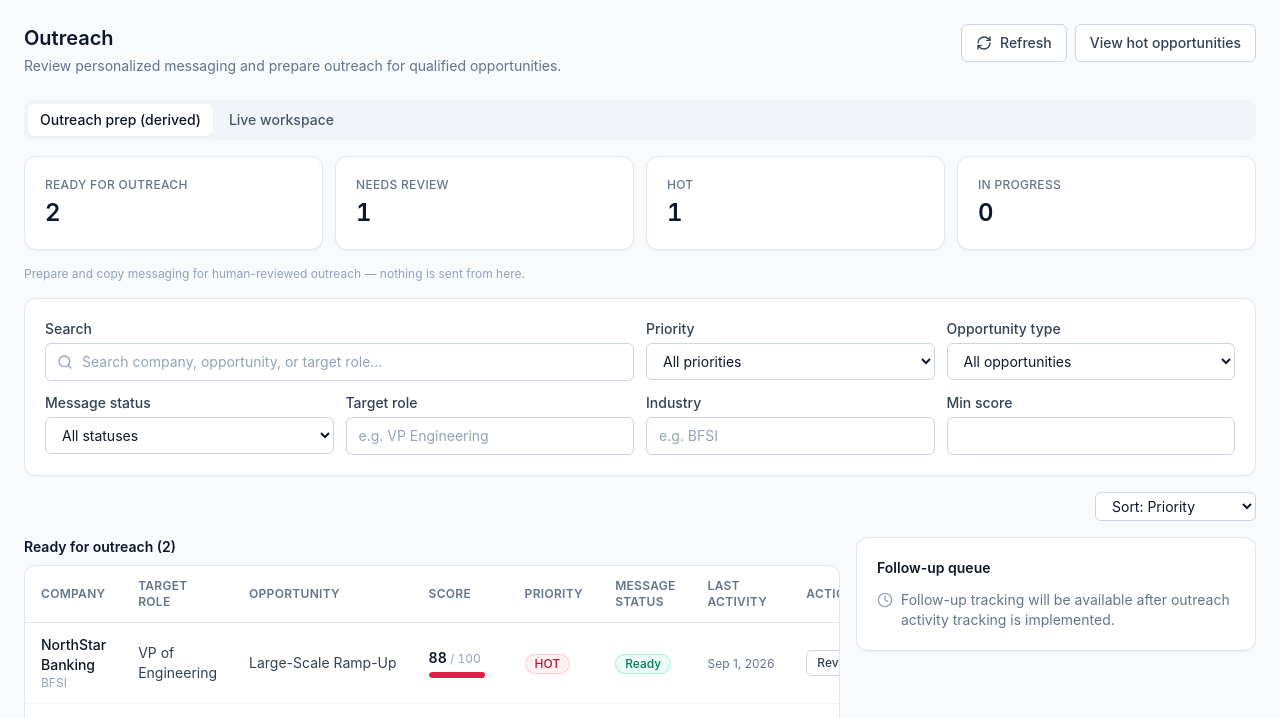
Test: OutreachPage › opens the detail drawer with channel tabs and derived context
This screenshot has width=1280, height=718.
Check: the heading "Ready for outreach (2)" is shown, box [24, 538, 176, 555]
Click the button with aria-label "review outreach for northstar" at x=838, y=663, box [806, 650, 870, 676]
(page scrolled)
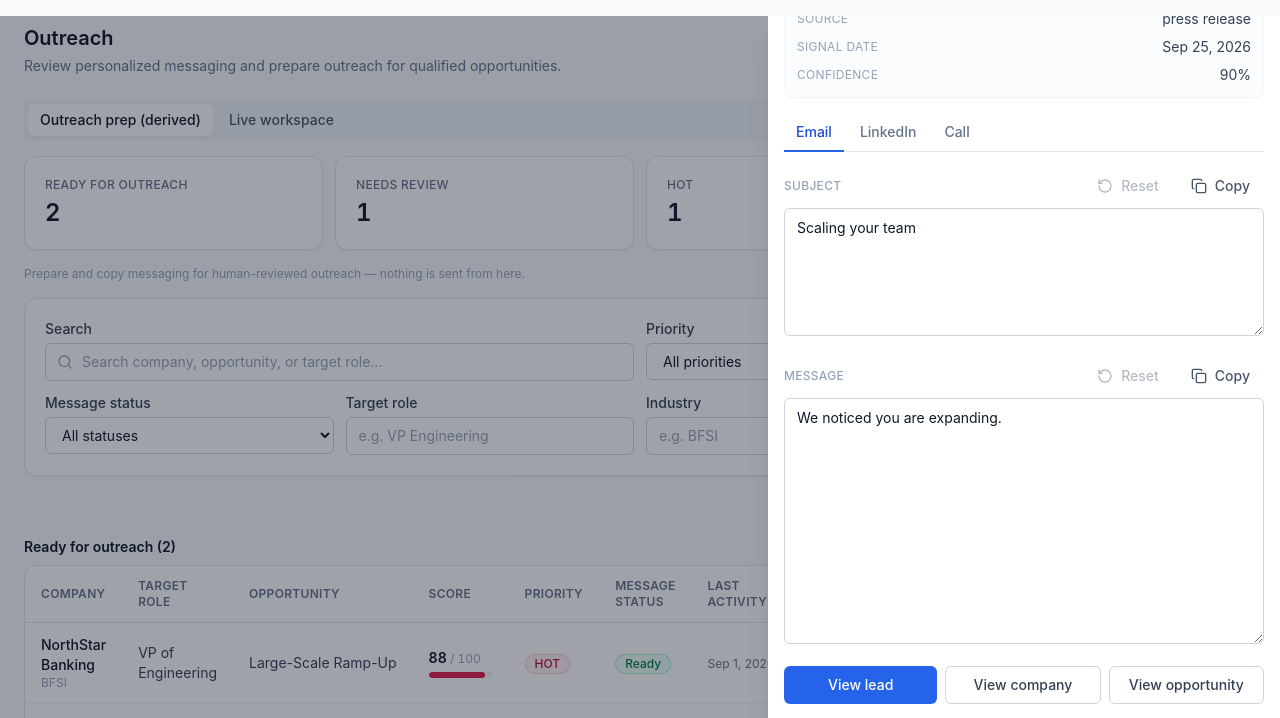
Check: the text box "We noticed you are expanding." is shown, box [784, 398, 1264, 644]
